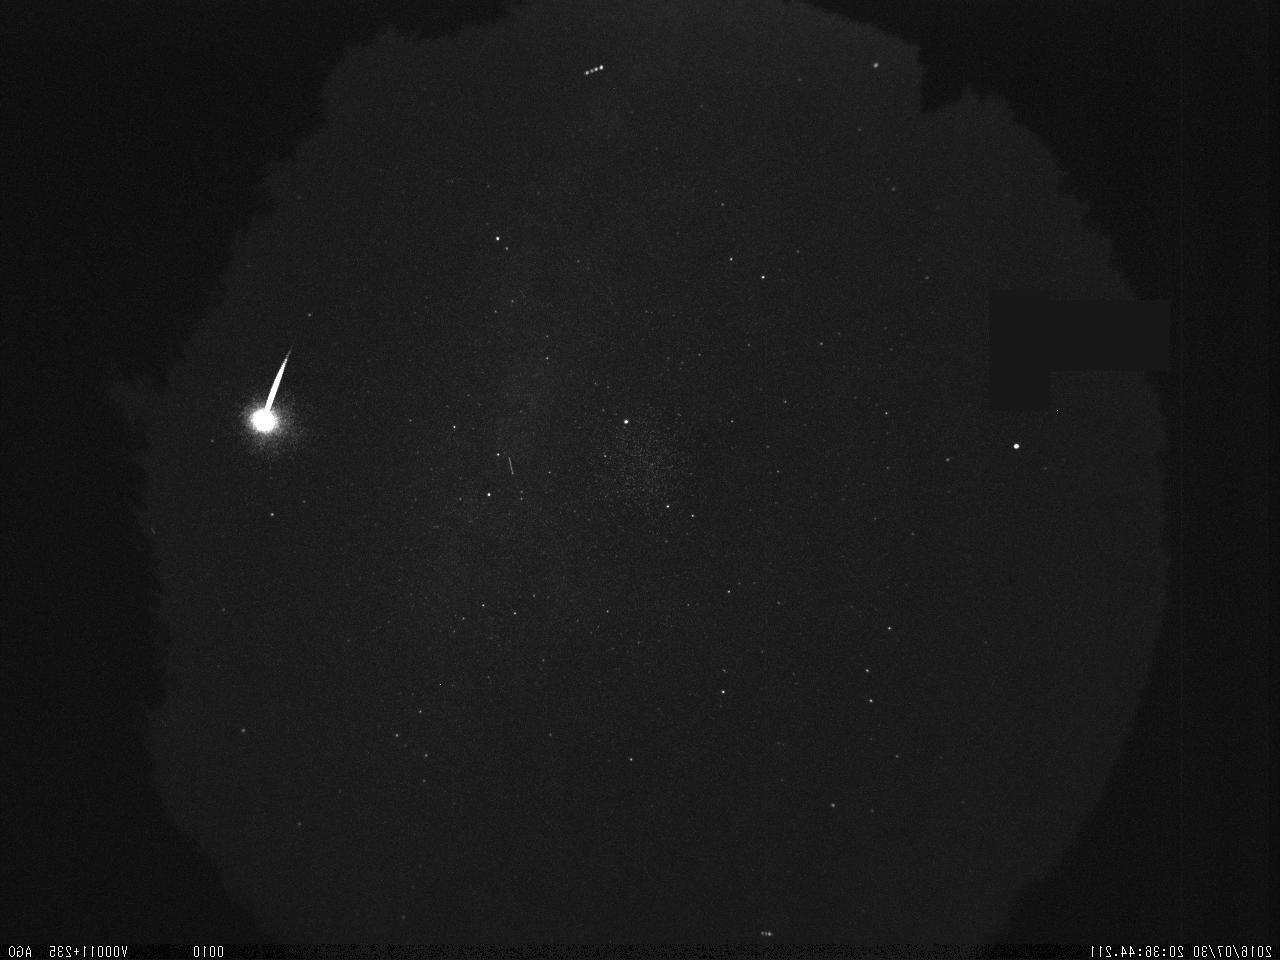meteor: (232, 332, 316, 448)
satelite: (580, 56, 609, 87)
